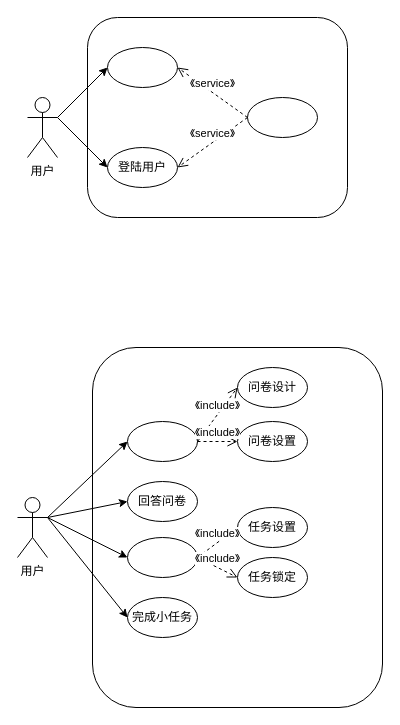
The diagram is 400 pixels wide and 725 high, and some of its shapes have lost their labels. The centre of each missing label's shape, as x and y in pixels:
发布小任务: point (162, 557)
发布问卷: point (162, 441)
注册用户: point (142, 67)
短信验证: point (282, 117)
